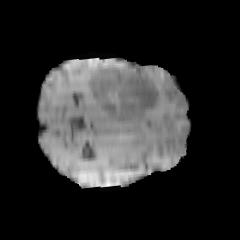glioma: (88, 67, 160, 118)
